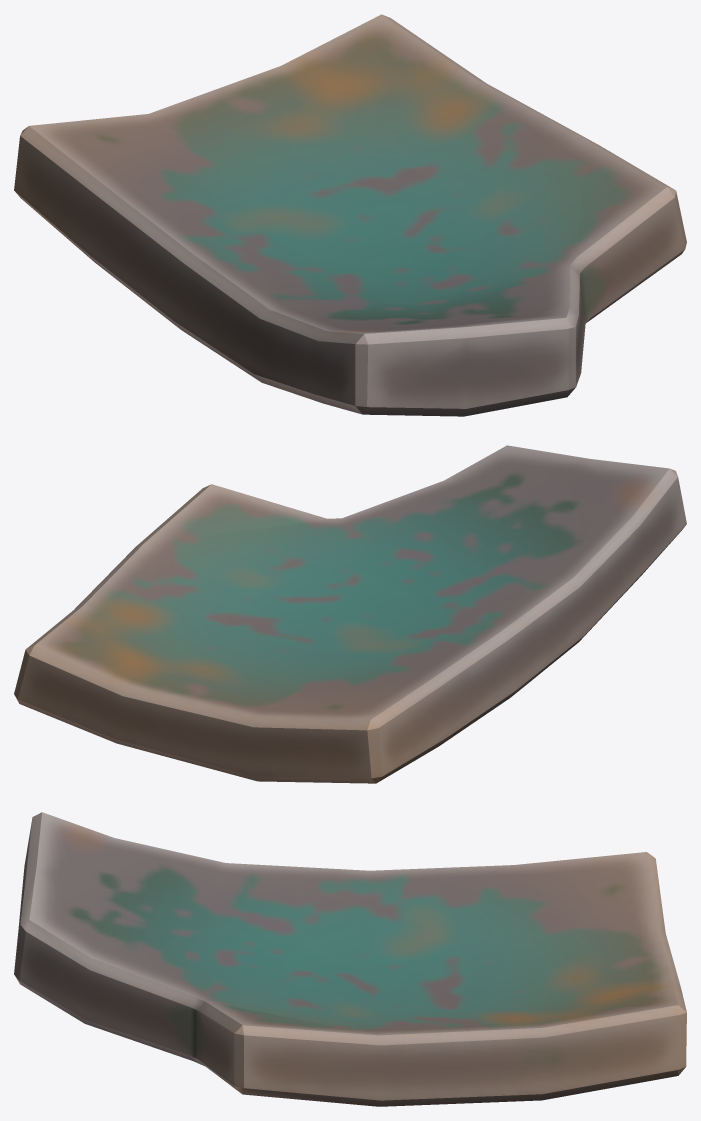
The model's file is Scrap_02.fbx.
3 views of the same model, one above another, from view 1: azimuth 30°, elevation 25°; view 2: azimuth 150°, elevation 25°; view 3: azimuth 270°, elevation 25° (orthographic). The views are drawn at different scales.
Visible parts, largest first — view 1: Scrap_02; view 2: Scrap_02; view 3: Scrap_02.
Boxes of the visible parts, x1,y1,x2,y2 form: Scrap_02: (14, 14, 686, 416); Scrap_02: (14, 445, 686, 783); Scrap_02: (14, 812, 686, 1106).
Size of the model in its own units: 10.98 by 3.61 by 15.95.
